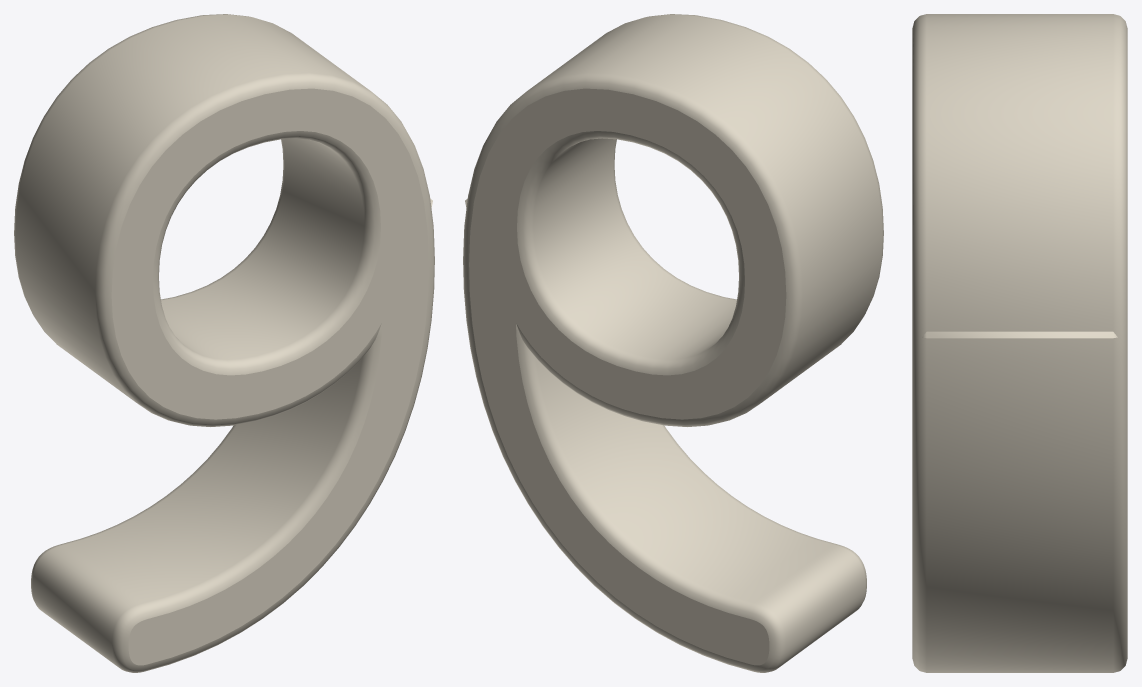
File: number_9.glb
3 views of the same model, side by side, from view 1: azimuth 30°, elevation 25°; view 2: azimuth 150°, elevation 25°; view 3: azimuth 270°, elevation 25° (orthographic). The views are drawn at different scales.
Parts seen in each view (by area): view 1: color_body; view 2: color_body; view 3: color_body.
Boxes of the visible parts, left/top/right/bottom form: color_body: left=14, top=14, right=434, bottom=672; color_body: left=463, top=14, right=883, bottom=672; color_body: left=912, top=14, right=1127, bottom=672.
Size of the model in its own units: 0.5161 by 0.8216 by 0.242.
